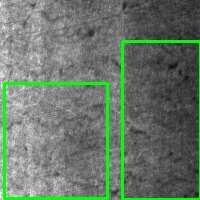crazing: (122, 41, 200, 199), (4, 83, 107, 198)
